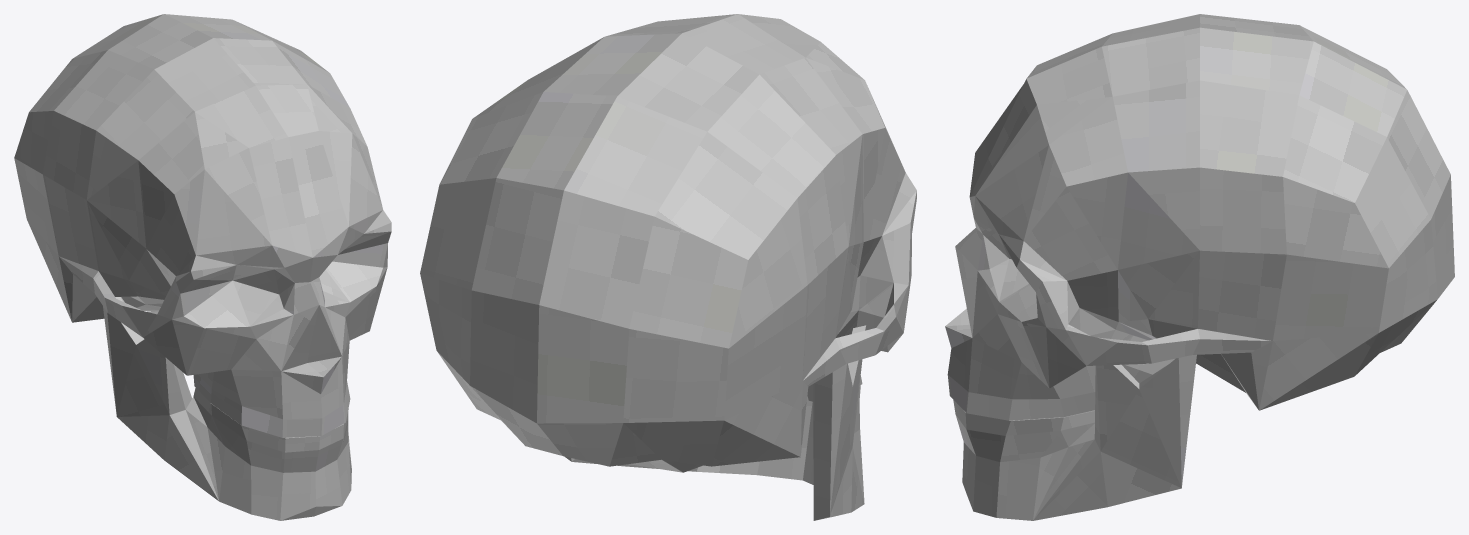
Rendered from skull_animation.glb.
3 views of the same model, side by side, from view 1: azimuth 30°, elevation 25°; view 2: azimuth 150°, elevation 25°; view 3: azimuth 270°, elevation 25° (orthographic). The views are drawn at different scales.
Parts seen in each view (by area): view 1: cranium, jaw; view 2: cranium, jaw; view 3: cranium, jaw.
Part boxes in pixels (<box>): cranium: <box>14,14,391,437</box>; jaw: <box>103,297,351,520</box>; cranium: <box>420,14,916,472</box>; jaw: <box>564,325,866,520</box>; cranium: <box>945,14,1454,420</box>; jaw: <box>953,335,1196,520</box>.
Size of the model in its own units: 1.36 by 1.99 by 1.95.
Materials: 1 (1 with a texture image).
